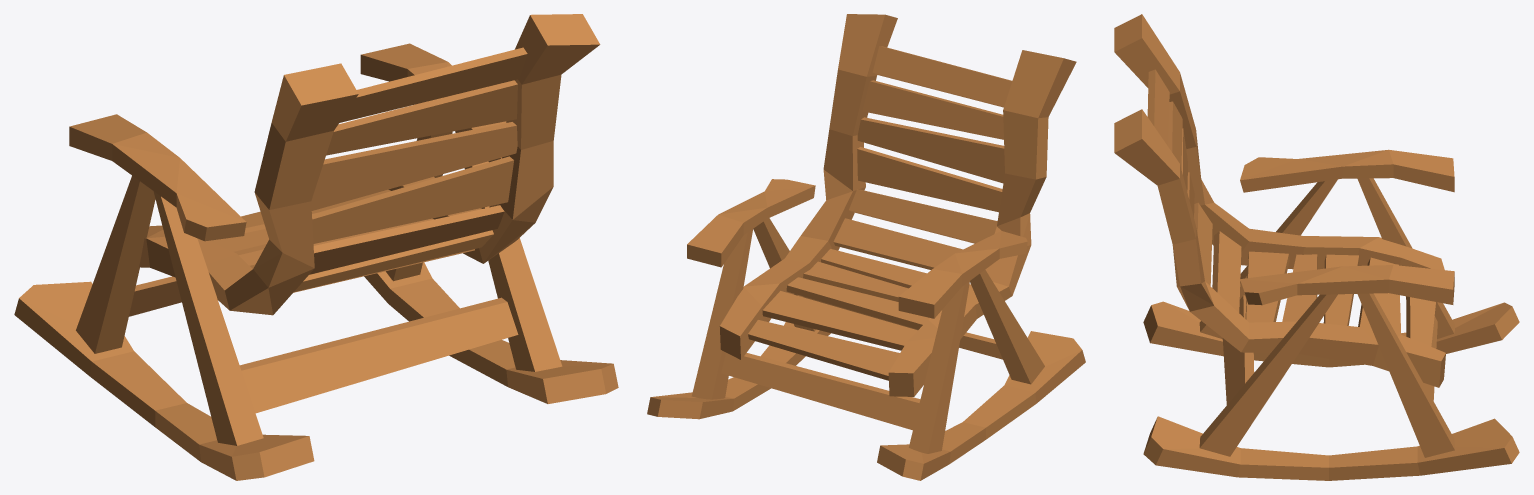
File: rockingChair.FBX
3 renders of one model, left to right at view 1: azimuth 30°, elevation 25°; view 2: azimuth 150°, elevation 25°; view 3: azimuth 270°, elevation 25°, orthographic. The views are drawn at different scales.
Parts seen in each view (by area): view 1: rockingChair; view 2: rockingChair; view 3: rockingChair.
Boxes of the visible parts, <box> form: rockingChair: <box>14,14,618,480</box>; rockingChair: <box>647,14,1085,480</box>; rockingChair: <box>1114,14,1519,480</box>.
Bounding box in the file's own units: 4.57 × 4.98 × 5.3.
